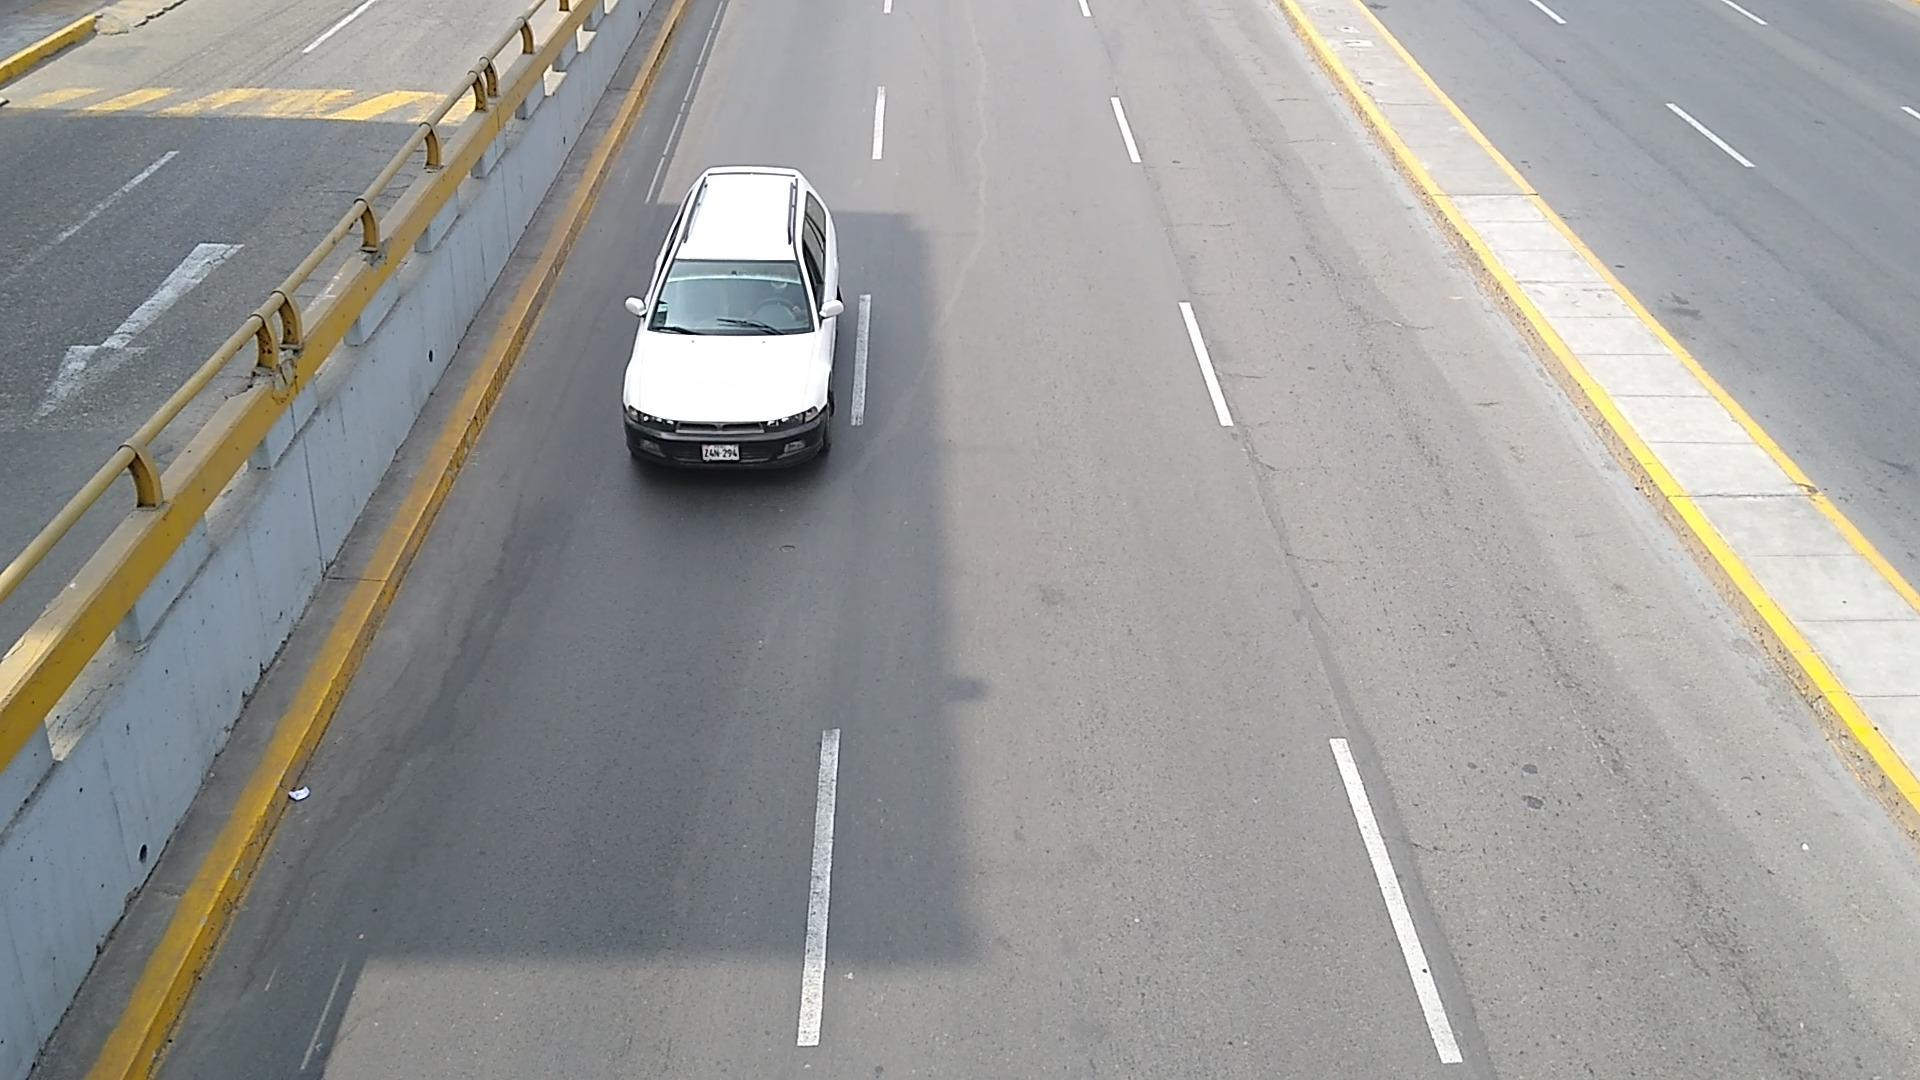car: (622, 165, 844, 468)
